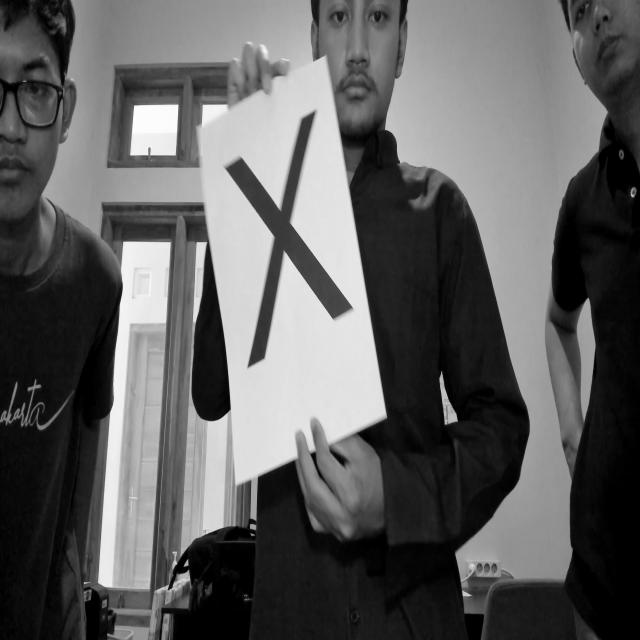x: (218, 99, 359, 379)
